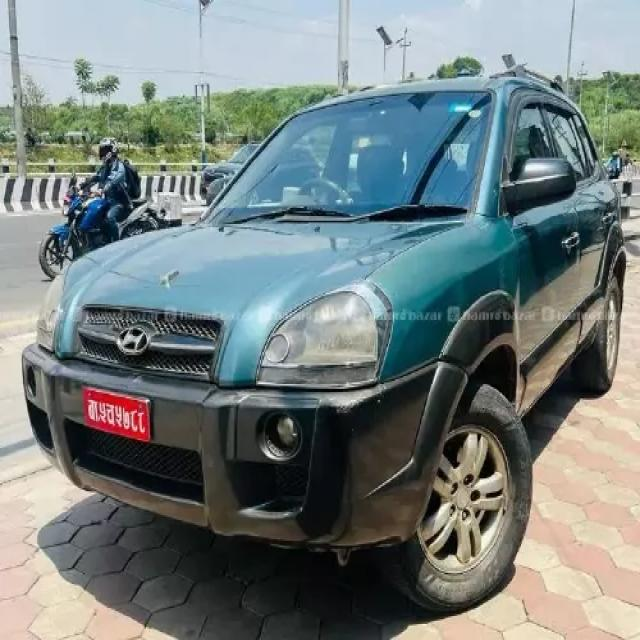License-plate: (83, 386, 152, 442)
